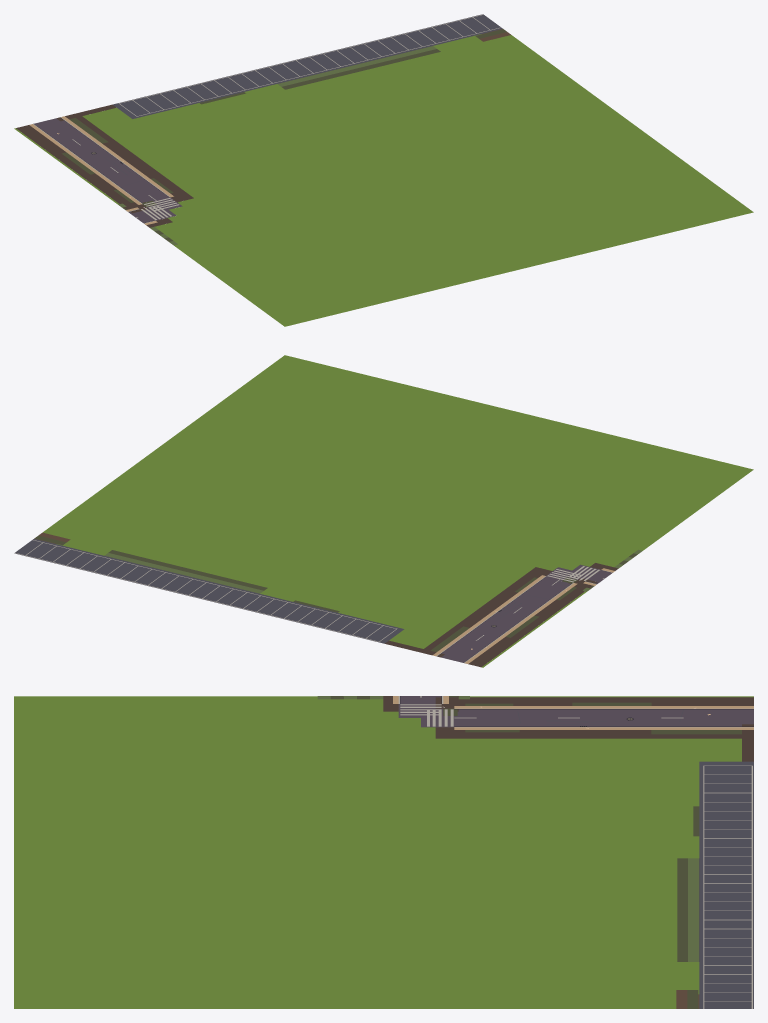
The model's file is cure-23-2.glb.
The picture shows the model from 3 angles, top to bottom: view 1: azimuth 30°, elevation 25°; view 2: azimuth 150°, elevation 25°; view 3: azimuth 270°, elevation 25°; orthographic projection. The views are drawn at different scales.
Visible parts, largest first — view 1: cure-23-2; view 2: cure-23-2; view 3: cure-23-2.
Boxes of the visible parts, box(x1,y1,x2,y2) form: cure-23-2: box(14, 14, 753, 326); cure-23-2: box(14, 355, 753, 667); cure-23-2: box(14, 696, 753, 1008).
Bounding box in the file's own units: 100 × 0.017 × 100.
